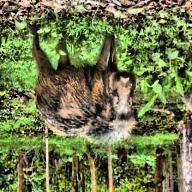boar: (25, 27, 140, 152)
